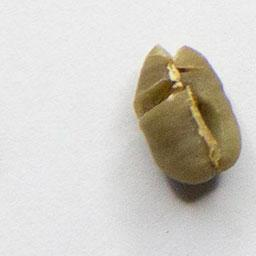peaberry: (127, 37, 246, 190)
